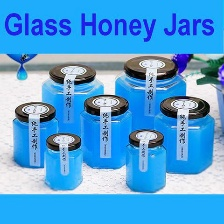bottle: (111, 54, 189, 139), (148, 94, 217, 177), (38, 62, 107, 140), (75, 90, 132, 173), (8, 97, 63, 169), (123, 125, 170, 194), (42, 130, 82, 191)
